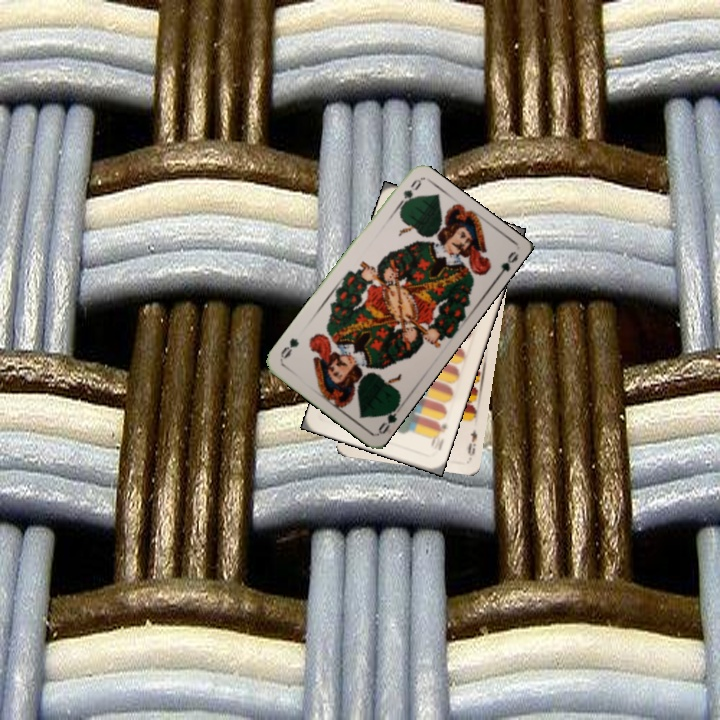E10: (427, 418, 450, 453)
E9: (463, 425, 480, 461)
GO: (392, 175, 424, 213), (374, 399, 405, 436)
